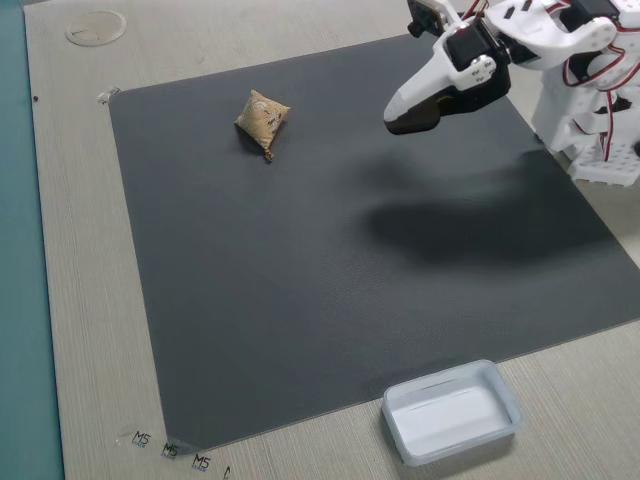gripper: (380, 21, 514, 141)
